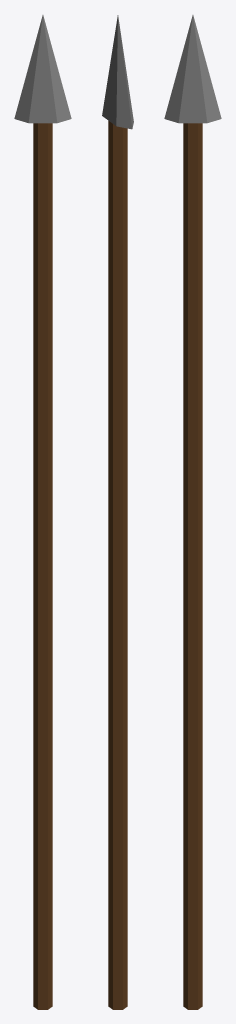
File: Spear.fbx
3 renders of one model, left to right at view 1: azimuth 90°, elevation 25°; view 2: azimuth 210°, elevation 25°; view 3: azimuth 270°, elevation 25°, orthographic.
Parts seen in each view (by area): view 1: Cylinder.003; view 2: Cylinder.003; view 3: Cylinder.003.
Boxes of the visible parts, left/top/right/bottom form: Cylinder.003: left=14, top=15, right=71, bottom=1009; Cylinder.003: left=102, top=15, right=133, bottom=1009; Cylinder.003: left=164, top=15, right=221, bottom=1009.
Bounding box in the file's own units: 2.45 × 132 × 6.91.
